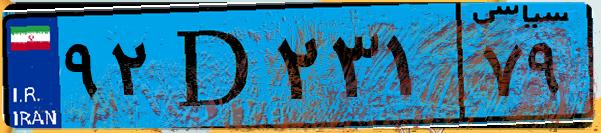1: (385, 28, 445, 110)
2: (270, 28, 330, 110), (110, 28, 158, 98)
3: (330, 28, 385, 110)
7: (475, 38, 525, 113)
9: (57, 26, 110, 100), (525, 38, 570, 115)
D: (158, 12, 270, 120)
